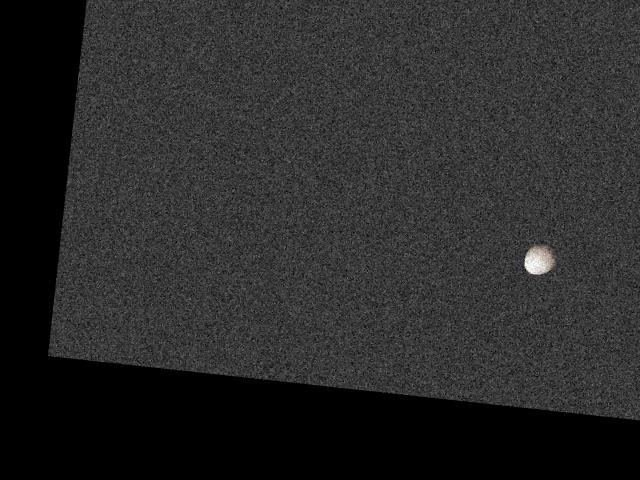egg: (523, 241, 559, 276)
